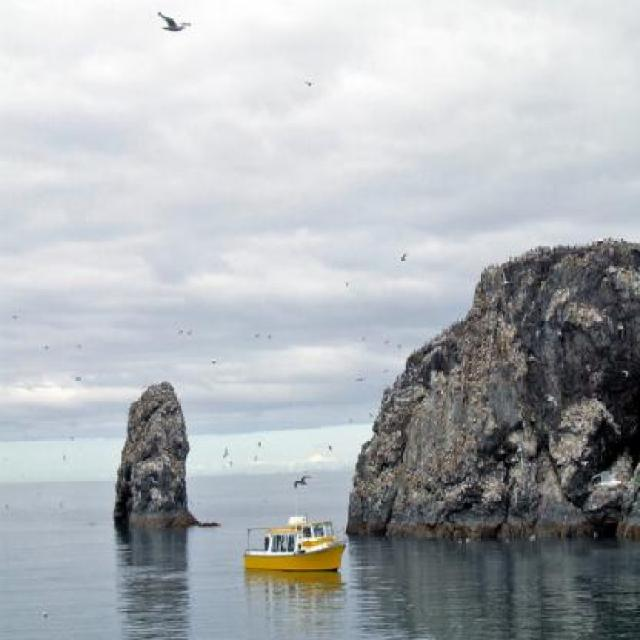ship: (241, 511, 347, 571)
